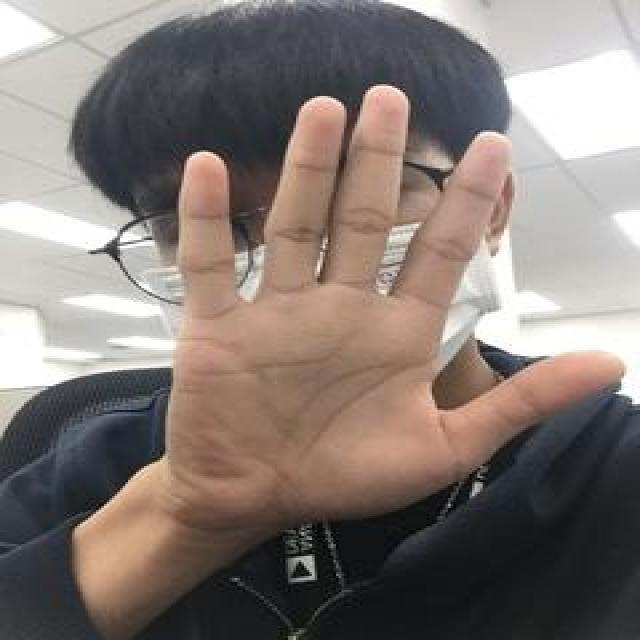hand: (162, 82, 632, 518)
